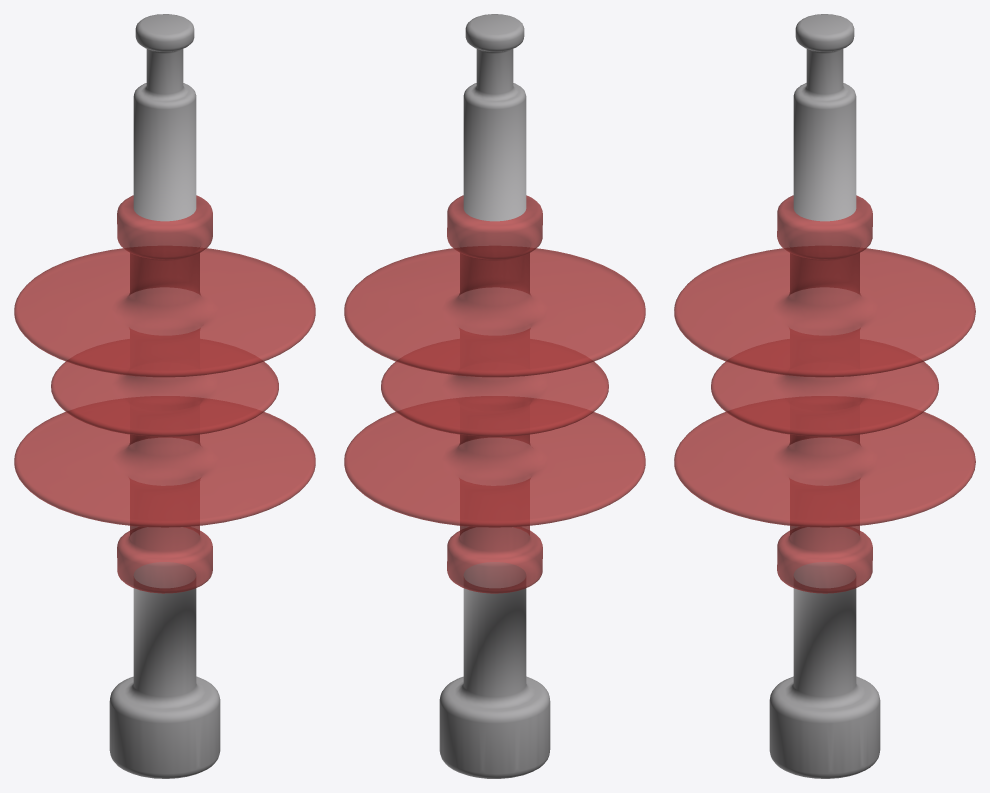
Rendered from 复合拉棒绝缘子-2.obj.
The picture shows the model from 3 angles, left to right: view 1: azimuth 30°, elevation 25°; view 2: azimuth 150°, elevation 25°; view 3: azimuth 270°, elevation 25°; orthographic projection.
Visible parts, largest first — view 1: 复合拉棒绝缘子-2; view 2: 复合拉棒绝缘子-2; view 3: 复合拉棒绝缘子-2.
Boxes of the visible parts, bbox=[...] form: 复合拉棒绝缘子-2: bbox=[14, 14, 315, 778]; 复合拉棒绝缘子-2: bbox=[344, 14, 645, 778]; 复合拉棒绝缘子-2: bbox=[674, 14, 975, 778].
Size of the model in its own units: 16.37 by 44 by 16.39.
